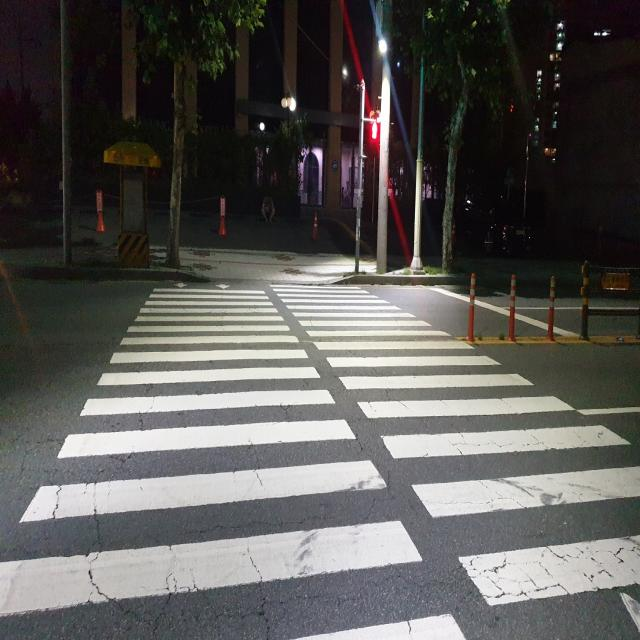빨간불: (368, 118, 381, 156)
횡단보도: (0, 281, 640, 640)
